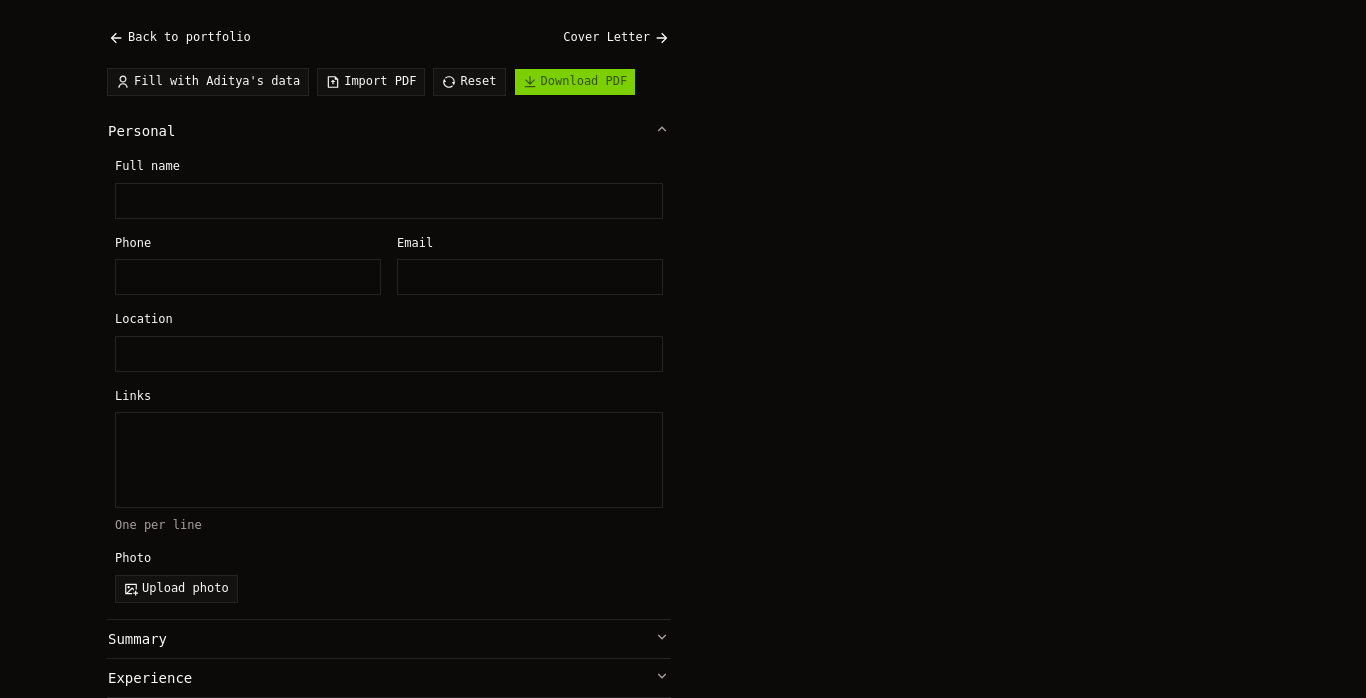
Test: ResumePage › fills Aditya's data on click
This screenshot has width=1366, height=698.
Click the button "Fill with Aditya's data": (208, 82) [107,68,309,96]
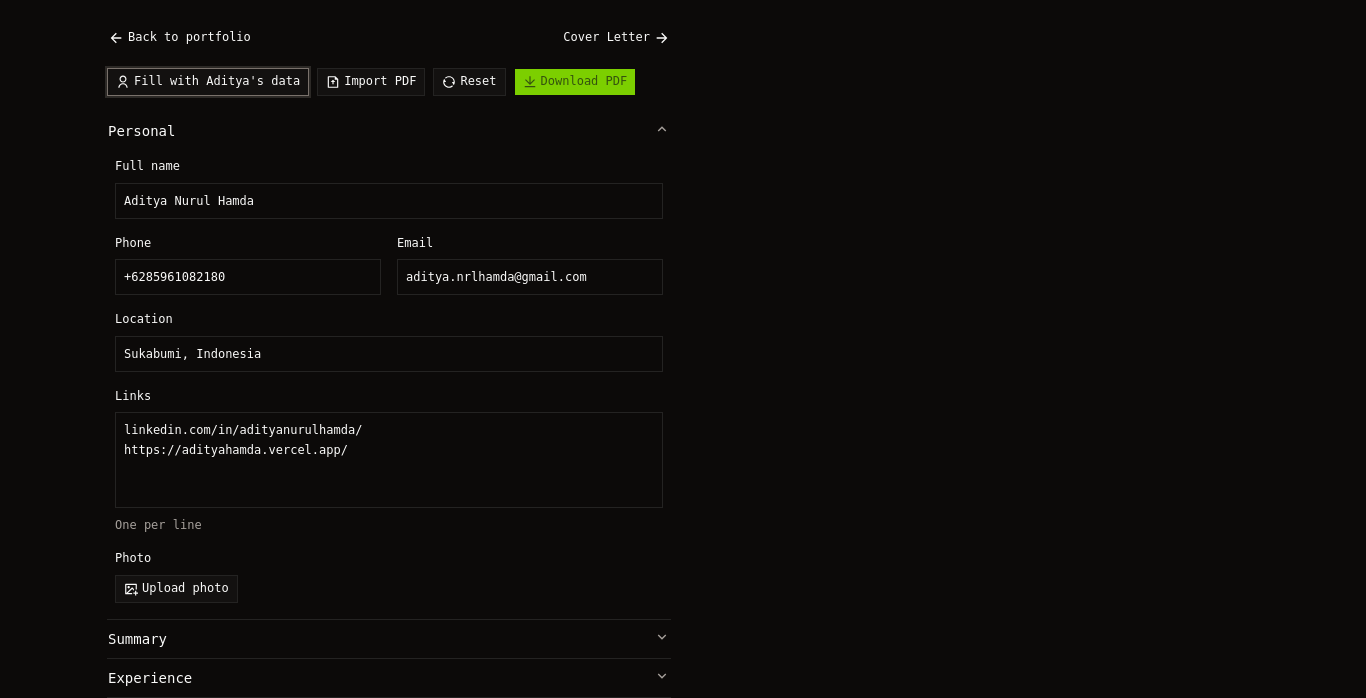
Expected: the field labelled "Full name" holds "Aditya Nurul Hamda", [115,182,663,218]
